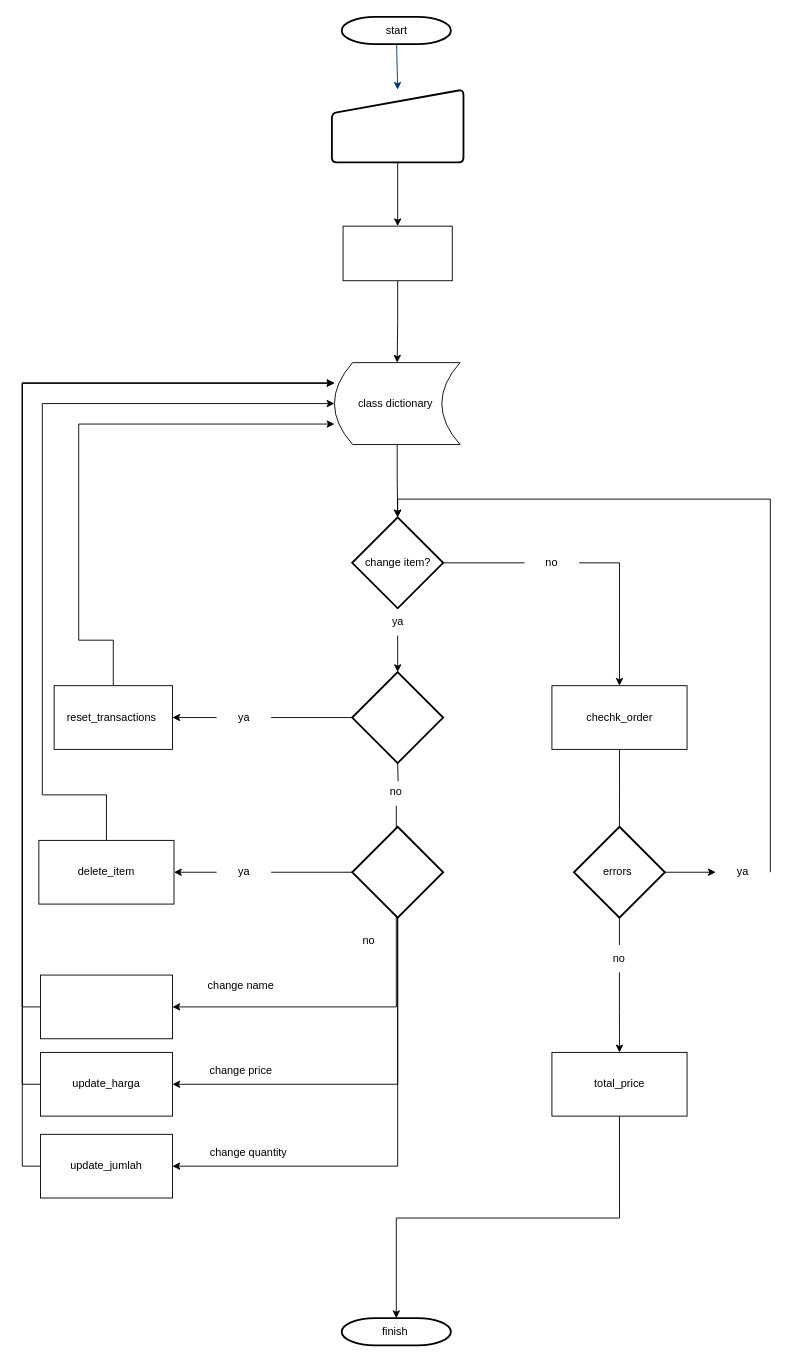
The diagram is 794 pixels wide and 1361 high, and some of its shapes have lost their labels. Each missing label, with the centre of its shape:
add item: point 397,253
add transactions: point 397,125
all item: point 397,717
need to delete item: point 397,871
update_item_name: point 106,1006
